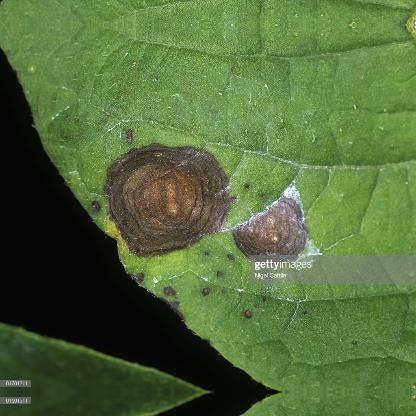Early-Blight: (26, 88, 348, 300)
